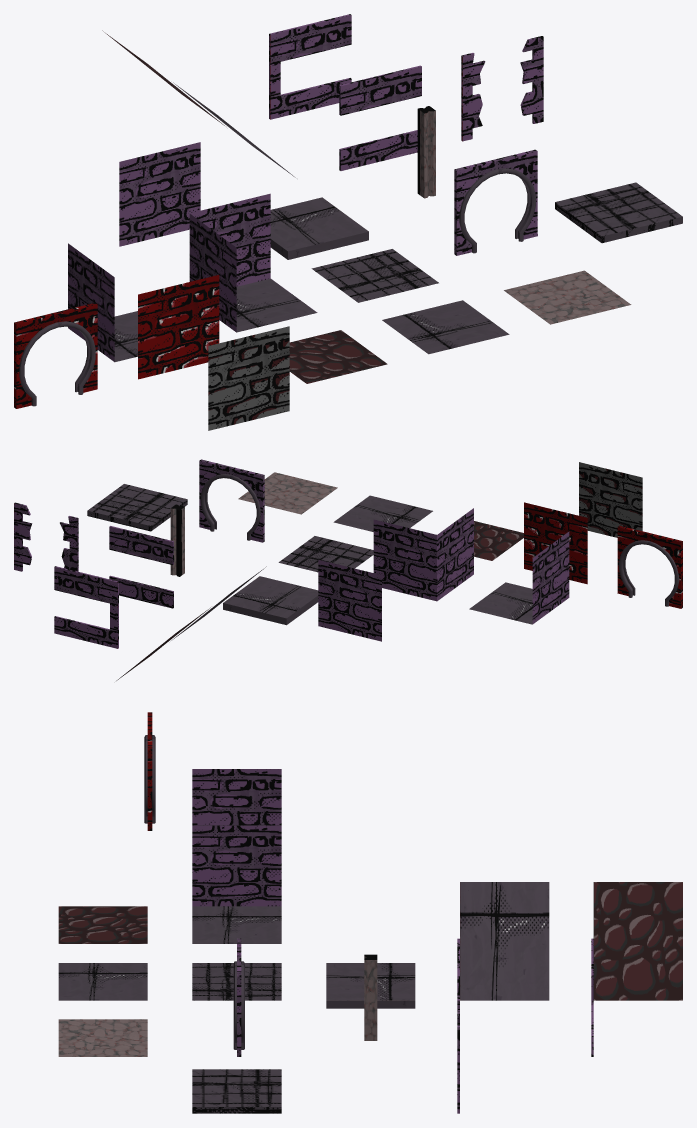
File: Modular_Kit.glb
The picture shows the model from 3 angles, top to bottom: view 1: azimuth 30°, elevation 25°; view 2: azimuth 150°, elevation 25°; view 3: azimuth 270°, elevation 25°; orthographic projection. The views are drawn at different scales.
Visible parts, largest first — view 1: Corner_wall-col, wall_grey-col, wall-col, wall-col.001, window_Corner-col, roof-col, window-col, floor_Outside-col, Side_wall-col, door-col, door_red-col, floor-col (+5 smaller); view 2: Corner_wall-col, wall-col, Side_wall-col, wall_grey-col, wall-col.001, window_Corner-col, floor_Outside-col, roof-col, window-col, door_red-col, door-col, gravel_Floor-col (+5 smaller); view 3: slope-col, slope_red-col, Corner_wall-col, Side_wall-col, roof-col, floor_Outside-col, floor-col, gravel_Floor-col, floor_2-col, Ceiling-col, door_red-col, pillar-col (+1 smaller).
Boxes of the visible parts, x1,y1,x2,y2 form: Corner_wall-col: (189,193,317,332); wall_grey-col: (208,326,289,430); wall-col: (119,142,200,246); wall-col.001: (138,275,219,379); window_Corner-col: (269,14,351,119); roof-col: (555,182,682,243); window-col: (339,65,421,170); floor_Outside-col: (270,197,368,259); Side_wall-col: (68,243,137,362); door-col: (454,149,537,255); door_red-col: (14,303,97,408); floor-col: (382,300,509,354); Corner_wall-col: (373,508,473,601); wall-col: (318,559,381,641); Side_wall-col: (469,531,569,624); wall_grey-col: (579,462,642,537); wall-col.001: (524,502,587,584); window_Corner-col: (54,566,118,648); floor_Outside-col: (223,576,318,625); roof-col: (87,484,187,531); window-col: (109,526,173,608); door_red-col: (617,525,682,608); door-col: (199,459,264,542); gravel_Floor-col: (238,472,337,514); slope-col: (460,882,549,1000); slope_red-col: (593,882,682,1000); Corner_wall-col: (192,825,281,943); Side_wall-col: (192,769,281,825); roof-col: (192,1069,281,1113); floor_Outside-col: (326,963,415,1008); floor-col: (58,963,147,1000); gravel_Floor-col: (58,1019,147,1056); floor_2-col: (58,906,147,943); Ceiling-col: (192,963,281,1000); door_red-col: (144,712,155,830); pillar-col: (364,954,377,1040).
Bounding box in the file's own units: 17 × 2.2 × 15.
19 materials, 19 textured.
